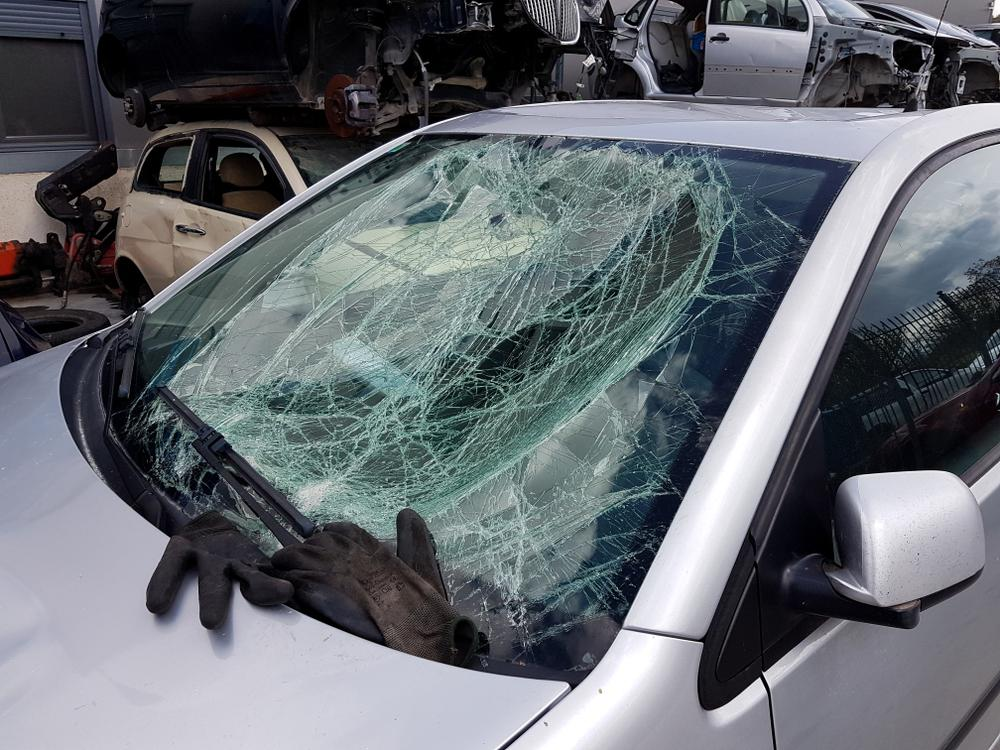glass shatter: (102, 133, 859, 686)
